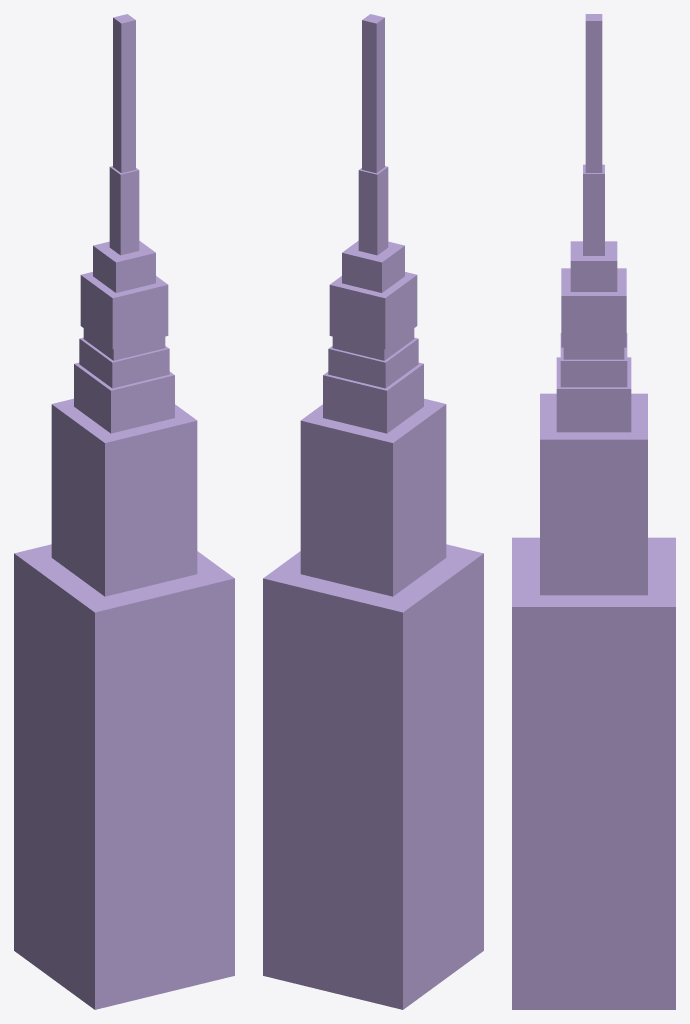
File: RandomBuilding.glb
The picture shows the model from 3 angles, left to right: view 1: azimuth 30°, elevation 25°; view 2: azimuth 150°, elevation 25°; view 3: azimuth 270°, elevation 25°; orthographic projection.
Visible parts, largest first — view 1: Cube; view 2: Cube; view 3: Cube.
Boxes of the visible parts, x1,y1,x2,y2 form: Cube: [14, 14, 234, 1009]; Cube: [263, 14, 483, 1009]; Cube: [512, 14, 675, 1009].
Bounding box in the file's own units: 2 × 12.9 × 2.
